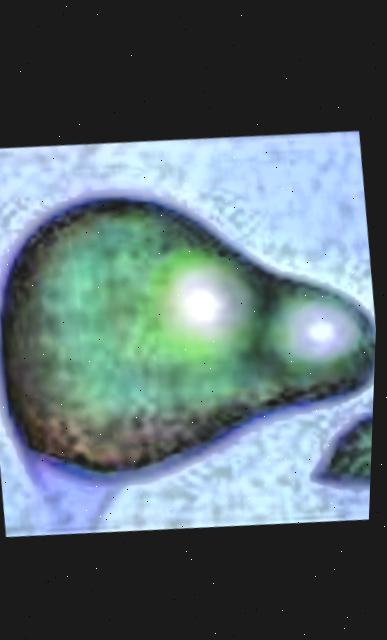La Pera: (0, 106, 384, 558)
